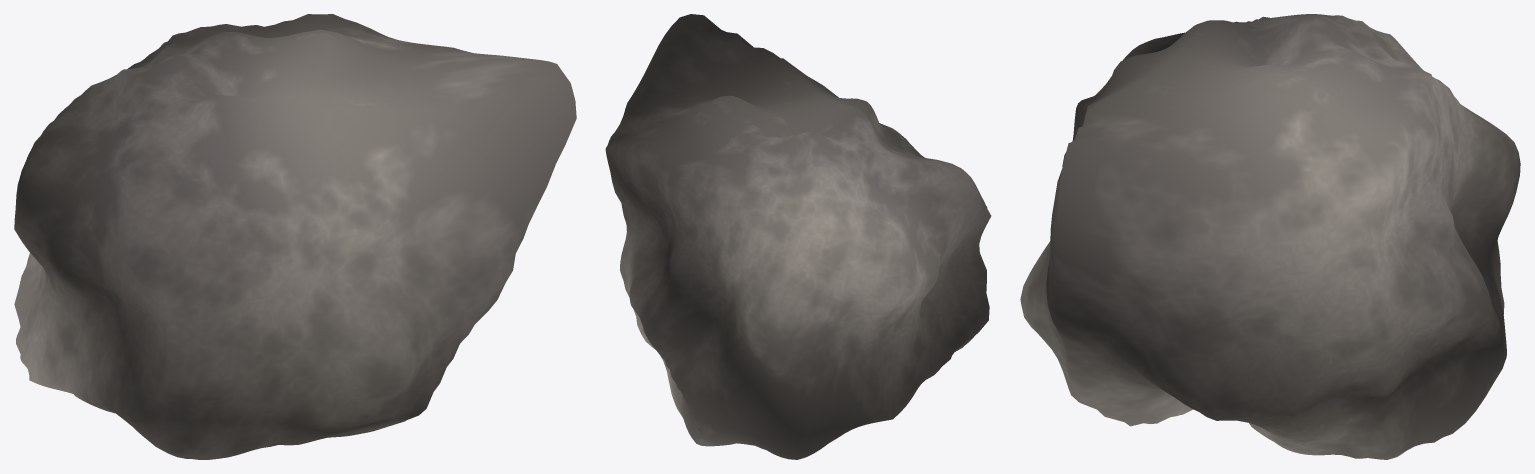
File: asteroid-slag.glb
3 renders of one model, left to right at view 1: azimuth 30°, elevation 25°; view 2: azimuth 150°, elevation 25°; view 3: azimuth 270°, elevation 25°, orthographic. The views are drawn at different scales.
Visible parts, largest first — view 1: asteroid_4004; view 2: asteroid_4004; view 3: asteroid_4004.
Part boxes in pixels (box(x1,y1,x2,y2)): asteroid_4004: box(14, 14, 576, 459); asteroid_4004: box(605, 14, 991, 459); asteroid_4004: box(1020, 14, 1520, 459).
Size of the model in its own units: 44.25 by 36.54 by 42.81.
1 material, 1 textured.
